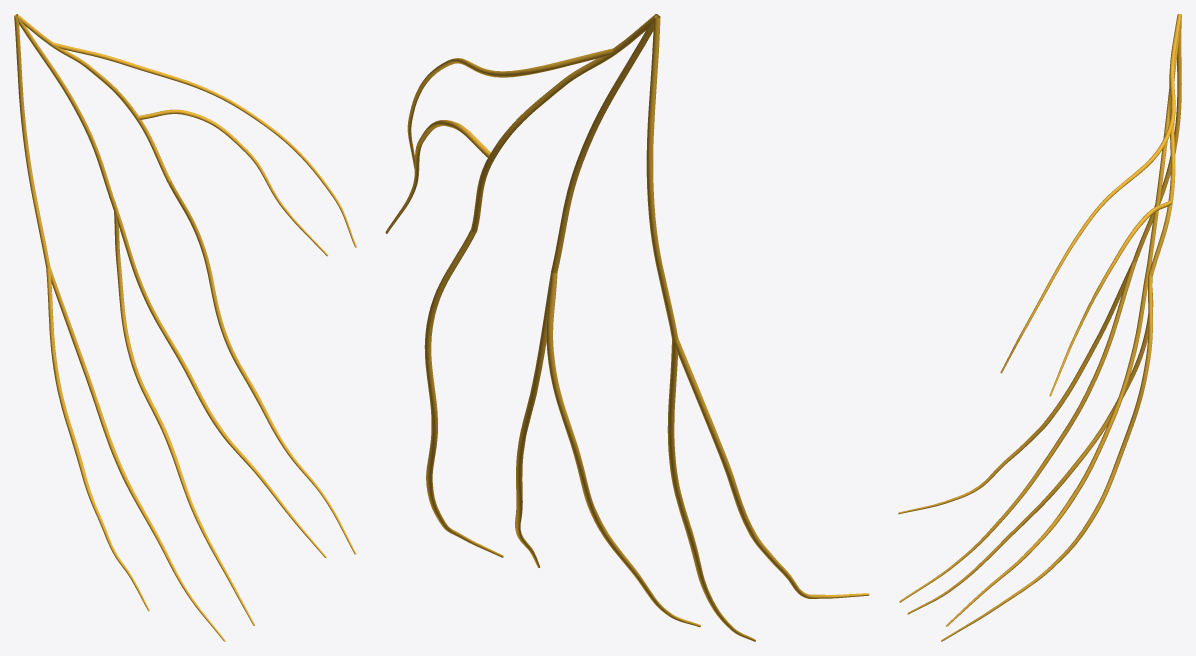
File: nervoso-common-palmar-digital-branches-of-median-nerve-l.glb
3 renders of one model, left to right at view 1: azimuth 30°, elevation 25°; view 2: azimuth 150°, elevation 25°; view 3: azimuth 270°, elevation 25°, orthographic. The views are drawn at different scales.
Visible parts, largest first — view 1: Proper palmar digital branches of median nerve.l, Common palmar digital branches of median nerve.l; view 2: Proper palmar digital branches of median nerve.l, Common palmar digital branches of median nerve.l; view 3: Proper palmar digital branches of median nerve.l, Common palmar digital branches of median nerve.l.
Boxes of the visible parts, x1,y1,x2,y2 form: Proper palmar digital branches of median nerve.l: [46, 43, 356, 641]; Common palmar digital branches of median nerve.l: [14, 14, 171, 267]; Proper palmar digital branches of median nerve.l: [385, 48, 869, 641]; Common palmar digital branches of median nerve.l: [471, 14, 678, 341]; Proper palmar digital branches of median nerve.l: [898, 64, 1175, 641]; Common palmar digital branches of median nerve.l: [1132, 14, 1181, 276].
Size of the model in its own units: 0.067 by 0.1345 by 0.0625.
